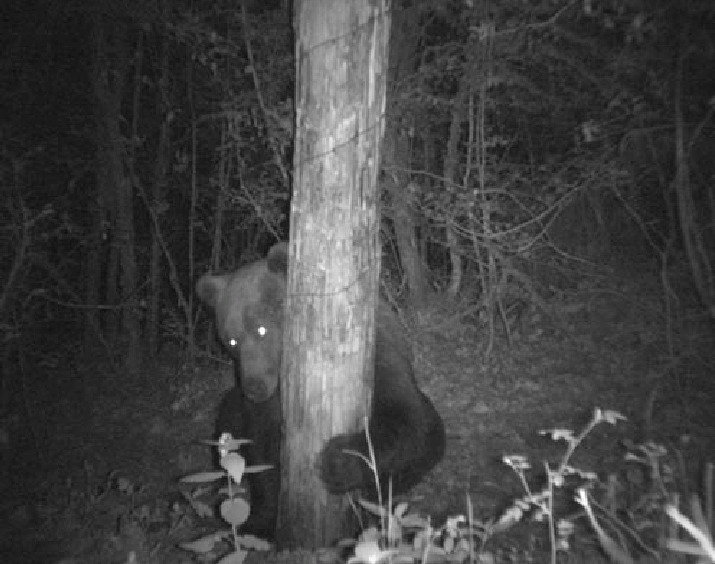bear: (195, 229, 461, 564)
